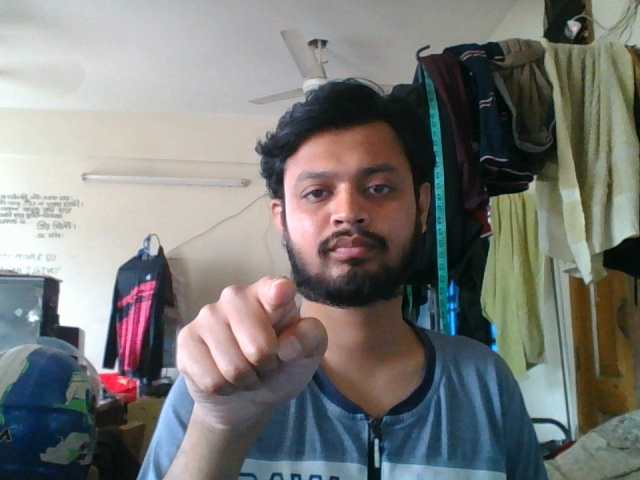tumi: (173, 266, 337, 451)
